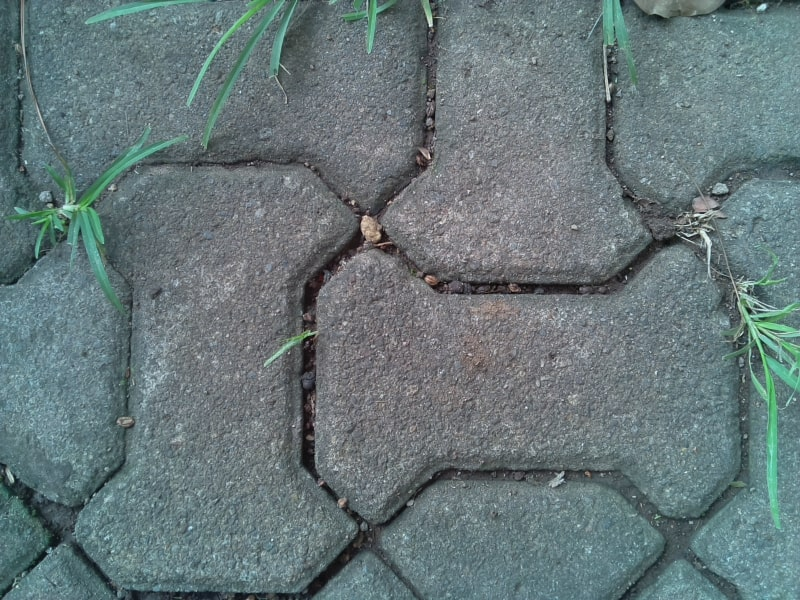Weed: (28, 151, 145, 265), (724, 273, 798, 439), (272, 327, 319, 355)
